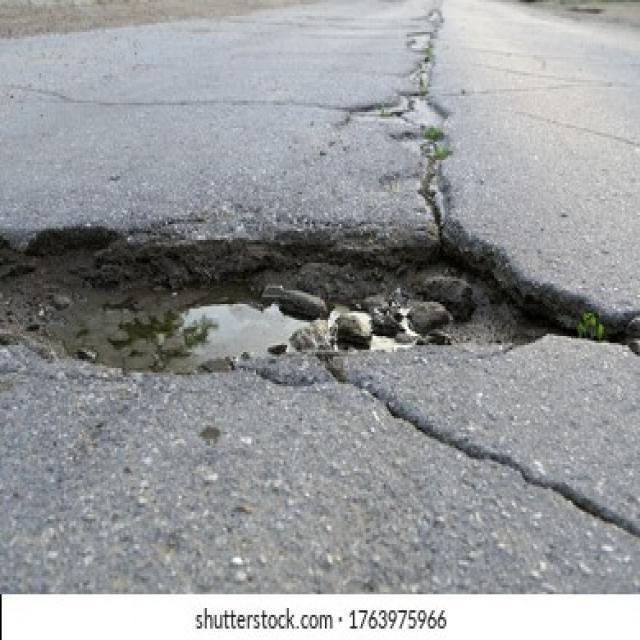Pothole: (1, 228, 640, 375)
